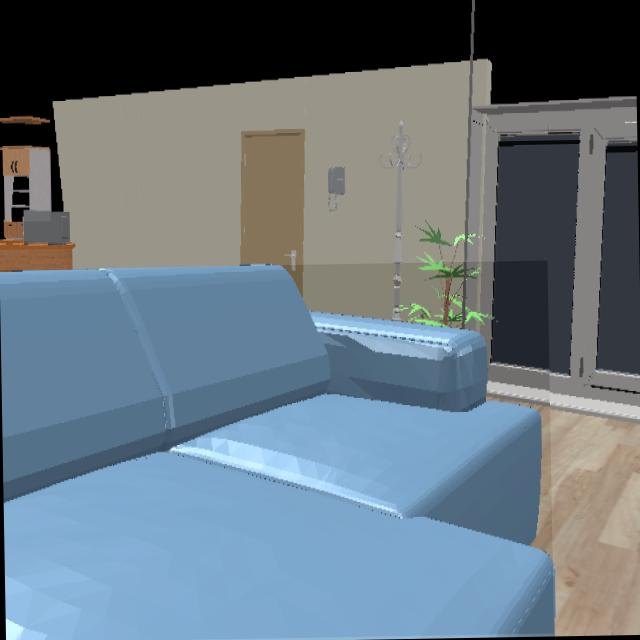cabinet: (2, 148, 50, 220)
microwave: (23, 213, 70, 243)
sofa: (0, 265, 553, 640)
